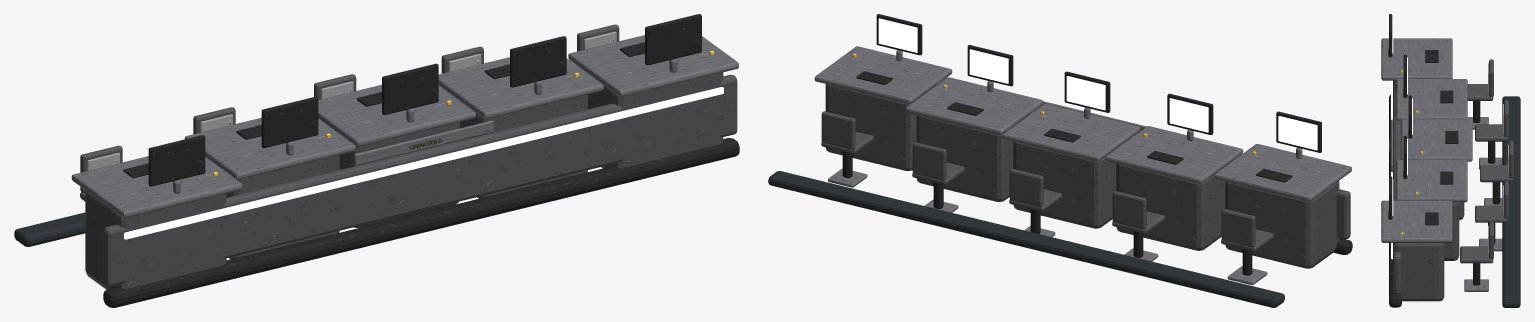
The model's file is decor_bridge_console_arc.glb.
The picture shows the model from 3 angles, left to right: view 1: azimuth 30°, elevation 25°; view 2: azimuth 150°, elevation 25°; view 3: azimuth 270°, elevation 25°; orthographic projection. The views are drawn at different scales.
Visible parts, largest first — view 1: DEC_BridgeConsoleArc__Fascia_Panel, DEC_BridgeConsoleArc__Fascia_Kick, DEC_BridgeConsoleArc__Bay_Support_1, DEC_BridgeConsoleArc__Bay_Support_5, DEC_BridgeConsoleArc__Bay_Desk_1, DEC_BridgeConsoleArc__Bay_Desk_5, DEC_BridgeConsoleArc__Bay_Desk_4, DEC_BridgeConsoleArc__Bay_Desk_3, DEC_BridgeConsoleArc__Fascia_Glow, DEC_BridgeConsoleArc__Bay_Desk_2, DEC_BridgeConsoleArc__Bay_Monitor_Bezel_2, DEC_BridgeConsoleArc__Bay_Monitor_Bezel_1 (+8 smaller); view 2: DEC_BridgeConsoleArc__Cable_Gutter, DEC_BridgeConsoleArc__Bay_Support_1, DEC_BridgeConsoleArc__Bay_Support_2, DEC_BridgeConsoleArc__Bay_Support_3, DEC_BridgeConsoleArc__Bay_Support_4, DEC_BridgeConsoleArc__Bay_Support_5, DEC_BridgeConsoleArc__Bay_Desk_3, DEC_BridgeConsoleArc__Bay_Desk_4, DEC_BridgeConsoleArc__Bay_Desk_1, DEC_BridgeConsoleArc__Bay_Desk_5, DEC_BridgeConsoleArc__Bay_Desk_2, DEC_BridgeConsoleArc__Chair_Back_5 (+22 smaller); view 3: DEC_BridgeConsoleArc__Cable_Gutter, DEC_BridgeConsoleArc__Bay_Desk_5, DEC_BridgeConsoleArc__Bay_Desk_4, DEC_BridgeConsoleArc__Bay_Support_5, DEC_BridgeConsoleArc__Bay_Desk_1, DEC_BridgeConsoleArc__Bay_Desk_2, DEC_BridgeConsoleArc__Bay_Desk_3, DEC_BridgeConsoleArc__Fascia_Panel, DEC_BridgeConsoleArc__Bay_Support_4, DEC_BridgeConsoleArc__Chair_Seat_5, DEC_BridgeConsoleArc__Chair_Seat_2, DEC_BridgeConsoleArc__Chair_Seat_4 (+29 smaller).
Boxes of the visible parts, x1=… form: DEC_BridgeConsoleArc__Fascia_Panel: x1=103, y1=74, x2=737, y2=286; DEC_BridgeConsoleArc__Fascia_Kick: x1=103, y1=138, x2=739, y2=307; DEC_BridgeConsoleArc__Bay_Support_1: x1=85, y1=190, x2=226, y2=289; DEC_BridgeConsoleArc__Bay_Support_5: x1=582, y1=69, x2=723, y2=168; DEC_BridgeConsoleArc__Bay_Desk_1: x1=71, y1=156, x2=242, y2=217; DEC_BridgeConsoleArc__Bay_Desk_5: x1=568, y1=35, x2=738, y2=96; DEC_BridgeConsoleArc__Bay_Desk_4: x1=438, y1=57, x2=603, y2=118; DEC_BridgeConsoleArc__Bay_Desk_3: x1=318, y1=84, x2=475, y2=146; DEC_BridgeConsoleArc__Fascia_Glow: x1=124, y1=87, x2=723, y2=239; DEC_BridgeConsoleArc__Bay_Desk_2: x1=184, y1=117, x2=355, y2=179; DEC_BridgeConsoleArc__Bay_Monitor_Bezel_2: x1=261, y1=96, x2=318, y2=148; DEC_BridgeConsoleArc__Bay_Monitor_Bezel_1: x1=148, y1=135, x2=205, y2=186; DEC_BridgeConsoleArc__Cable_Gutter: x1=768, y1=171, x2=1284, y2=307; DEC_BridgeConsoleArc__Bay_Support_1: x1=1225, y1=181, x2=1339, y2=268; DEC_BridgeConsoleArc__Bay_Support_2: x1=1116, y1=163, x2=1225, y2=250; DEC_BridgeConsoleArc__Bay_Support_3: x1=1013, y1=141, x2=1116, y2=228; DEC_BridgeConsoleArc__Bay_Support_4: x1=916, y1=115, x2=1016, y2=201; DEC_BridgeConsoleArc__Bay_Support_5: x1=825, y1=84, x2=936, y2=171; DEC_BridgeConsoleArc__Bay_Desk_3: x1=1002, y1=103, x2=1140, y2=161; DEC_BridgeConsoleArc__Bay_Desk_4: x1=905, y1=77, x2=1043, y2=134; DEC_BridgeConsoleArc__Bay_Desk_1: x1=1214, y1=144, x2=1351, y2=201; DEC_BridgeConsoleArc__Bay_Desk_5: x1=814, y1=46, x2=952, y2=103; DEC_BridgeConsoleArc__Bay_Desk_2: x1=1105, y1=126, x2=1243, y2=183; DEC_BridgeConsoleArc__Chair_Back_5: x1=821, y1=111, x2=855, y2=149; DEC_BridgeConsoleArc__Cable_Gutter: x1=1502, y1=96, x2=1520, y2=307; DEC_BridgeConsoleArc__Bay_Desk_5: x1=1381, y1=200, x2=1452, y2=242; DEC_BridgeConsoleArc__Bay_Desk_4: x1=1396, y1=160, x2=1467, y2=202; DEC_BridgeConsoleArc__Bay_Support_5: x1=1393, y1=243, x2=1444, y2=301; DEC_BridgeConsoleArc__Bay_Desk_1: x1=1381, y1=38, x2=1452, y2=80; DEC_BridgeConsoleArc__Bay_Desk_2: x1=1396, y1=79, x2=1467, y2=121; DEC_BridgeConsoleArc__Bay_Desk_3: x1=1401, y1=119, x2=1472, y2=161; DEC_BridgeConsoleArc__Fascia_Panel: x1=1393, y1=89, x2=1401, y2=294; DEC_BridgeConsoleArc__Bay_Support_4: x1=1444, y1=202, x2=1459, y2=260; DEC_BridgeConsoleArc__Chair_Seat_5: x1=1460, y1=246, x2=1493, y2=263; DEC_BridgeConsoleArc__Chair_Seat_2: x1=1475, y1=124, x2=1507, y2=141; DEC_BridgeConsoleArc__Chair_Seat_4: x1=1475, y1=205, x2=1507, y2=222.
Size of the model in its own units: 5.9 by 1.36 by 1.68.
8 materials, 4 textured.
